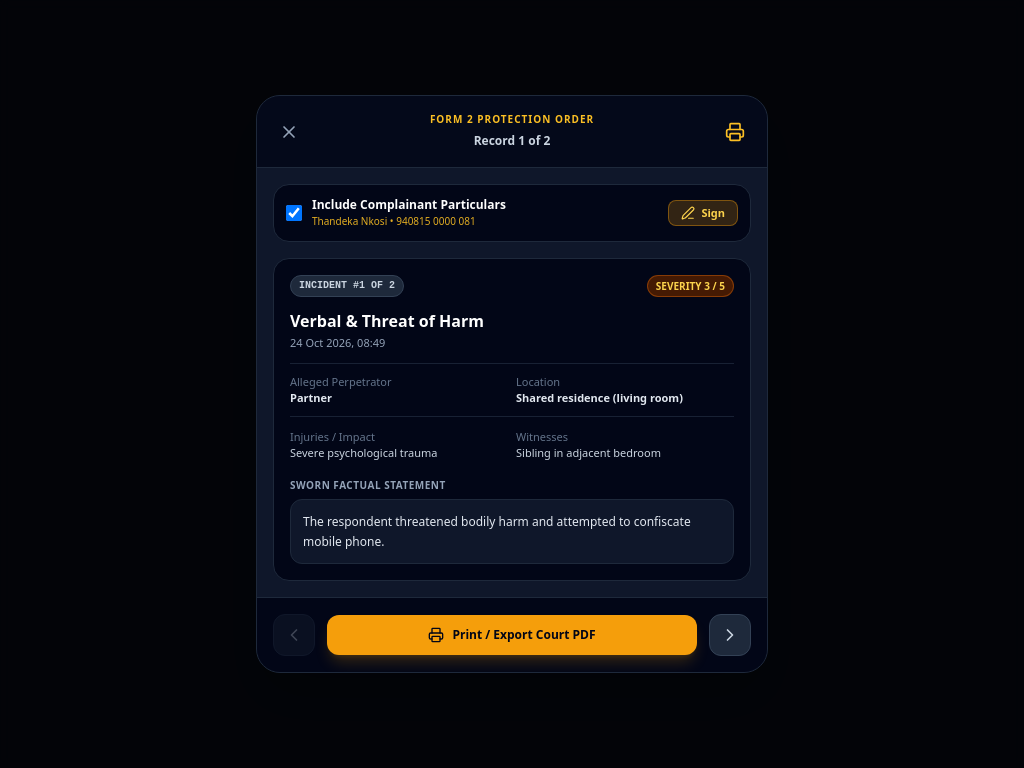
it: Form 2 Protection Order Court Record Viewer & Digital Signature › opens signature pad and captures electronic digital signature
Click the button "Sign": coordinates (703, 213) [668,200,738,226]
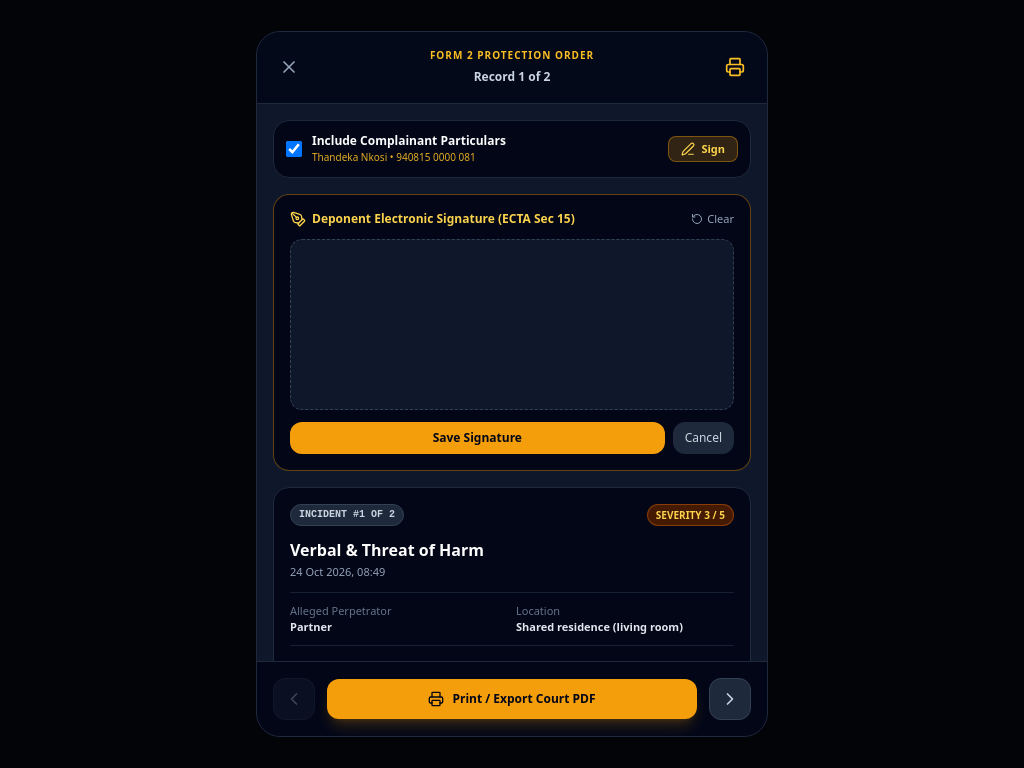
Check: the text "Deponent Electronic Signature (ECTA Sec 15)" is shown, box [312,211,575,227]
# Click Save Signature
Click the button "Save Signature": coordinates (477, 438) [290,422,665,454]
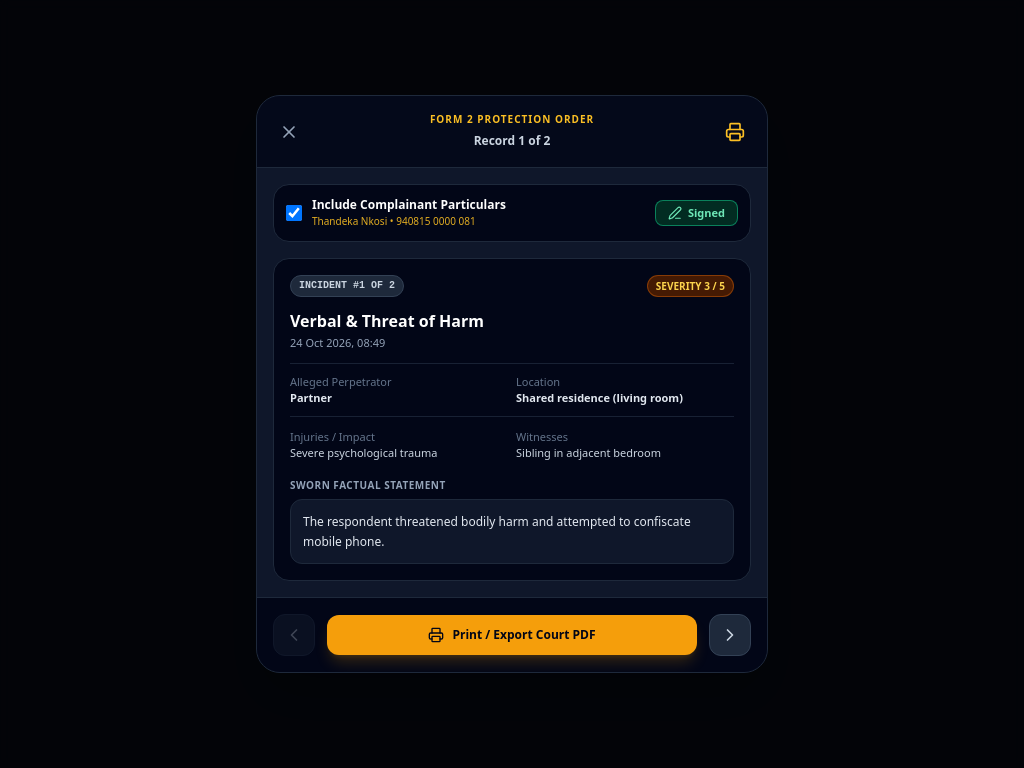
Check: the button "Signed" is shown, box [655,200,738,226]
